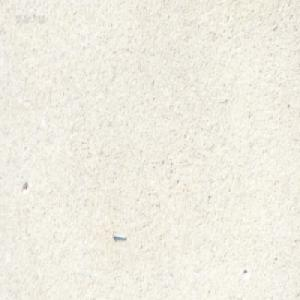Nail: (111, 231, 126, 240)
